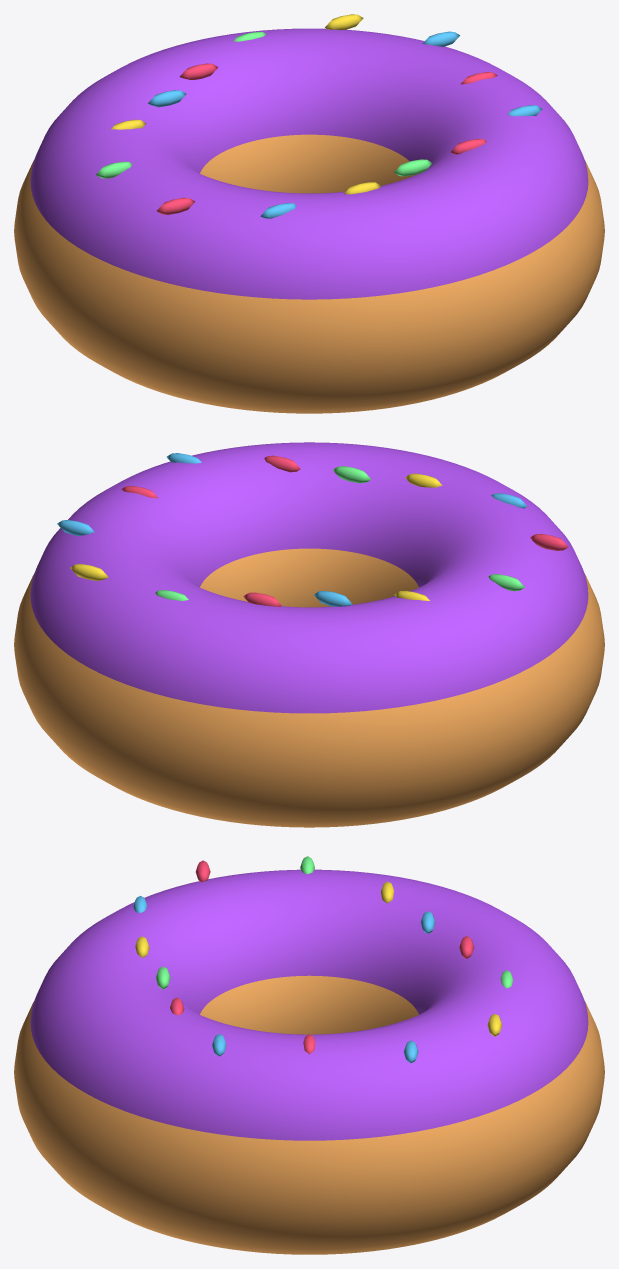
The model's file is Hat_Donut.glb.
The picture shows the model from 3 angles, top to bottom: view 1: azimuth 30°, elevation 25°; view 2: azimuth 150°, elevation 25°; view 3: azimuth 270°, elevation 25°; orthographic projection.
Visible parts, largest first — view 1: Torus.001, Torus; view 2: Torus.001, Torus; view 3: Torus.001, Torus.
Boxes of the visible parts, box(x1,y1,x2,y2) form: Torus.001: box(30, 28, 588, 299); Torus: box(14, 134, 604, 413); Torus.001: box(30, 442, 588, 713); Torus: box(14, 548, 604, 827); Torus.001: box(30, 869, 588, 1140); Torus: box(14, 975, 604, 1254).
Size of the model in its own units: 0.7853 by 0.3037 by 0.7853.
